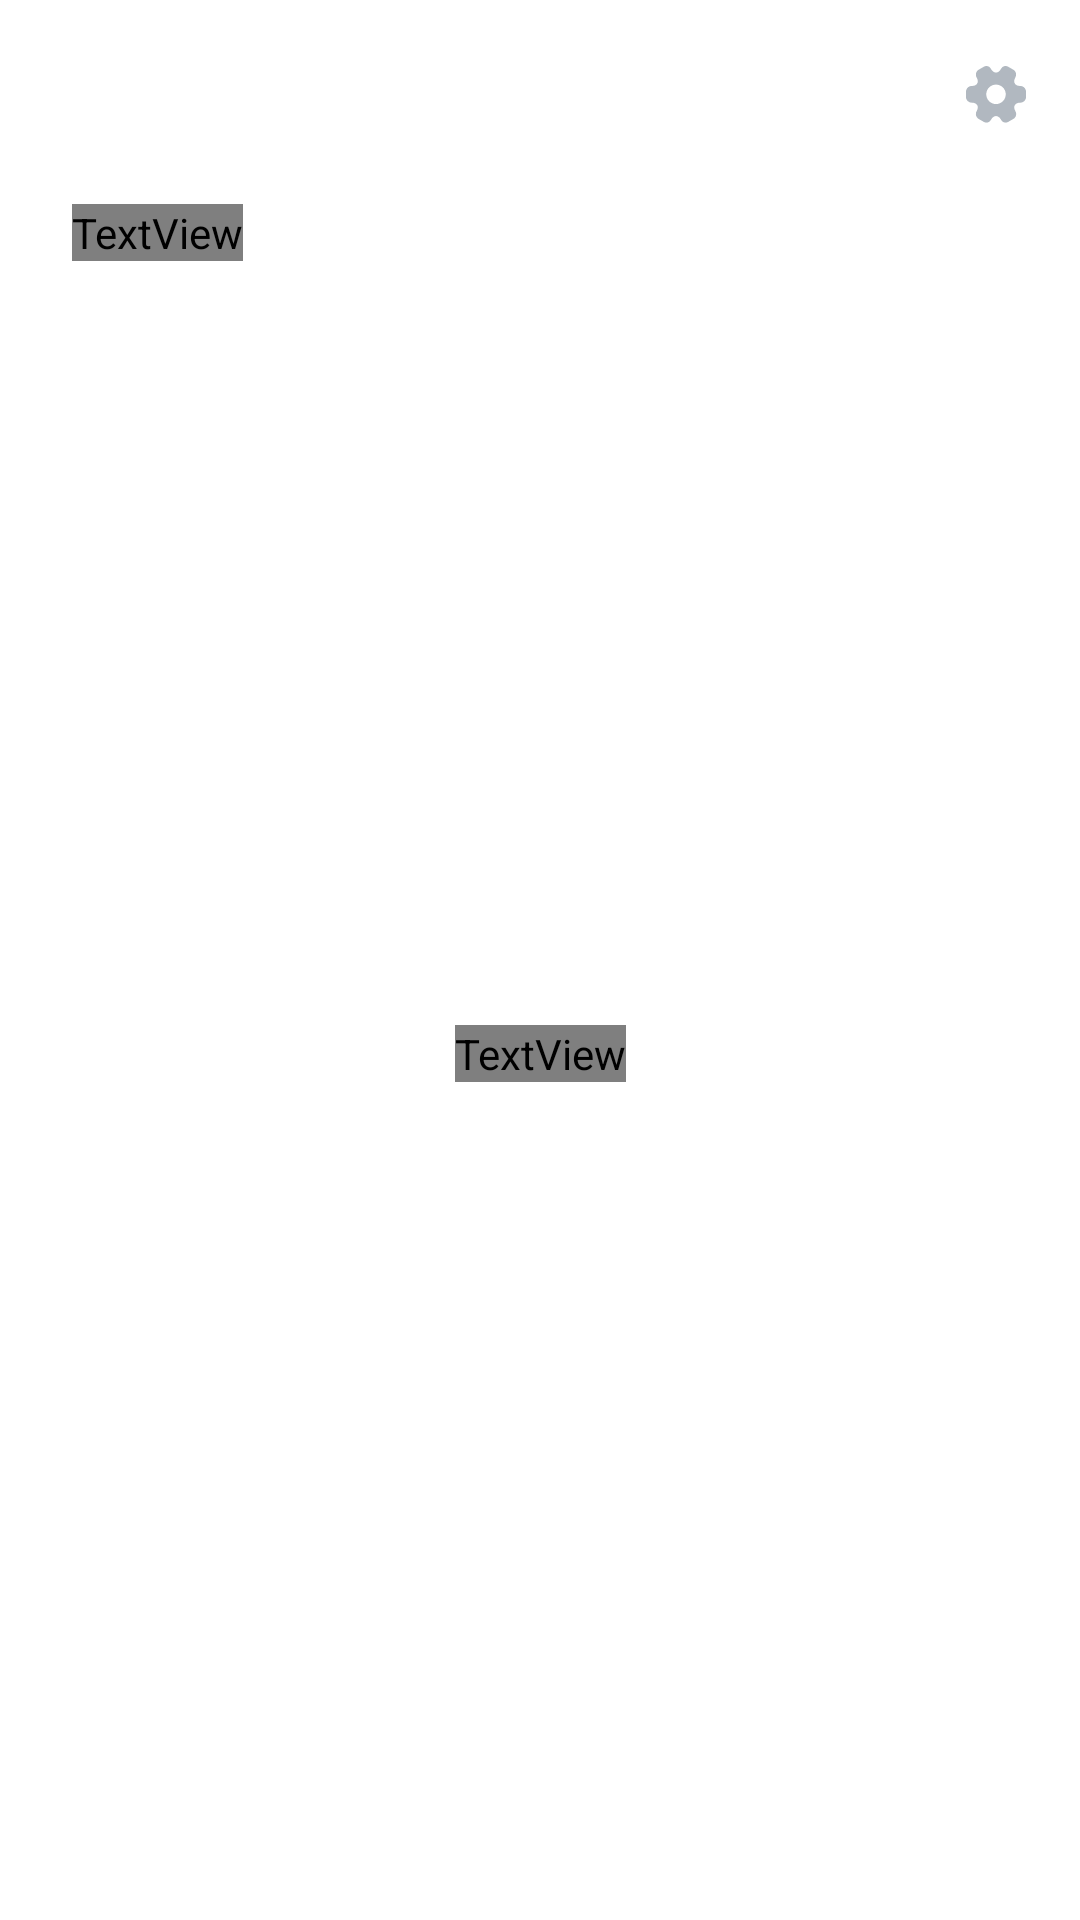

Named icons in this screenshot (1080px x 1920px) and their centers, (x,y):
setting: (996,94)
